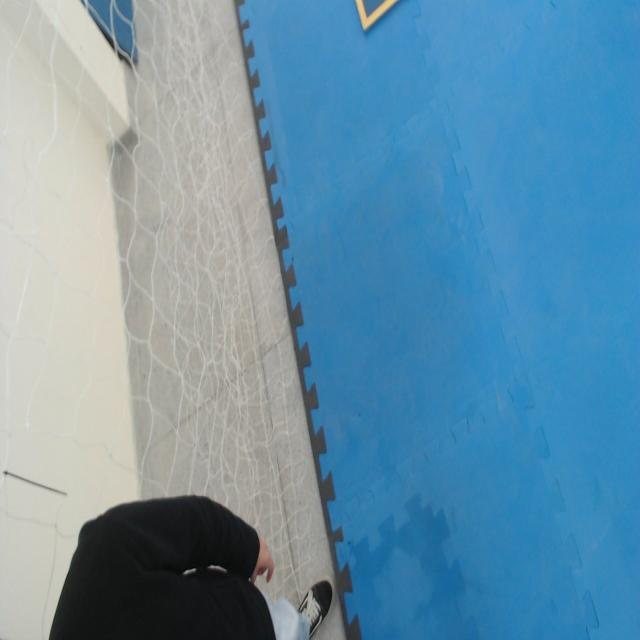base_pouso: (354, 0, 403, 31)
